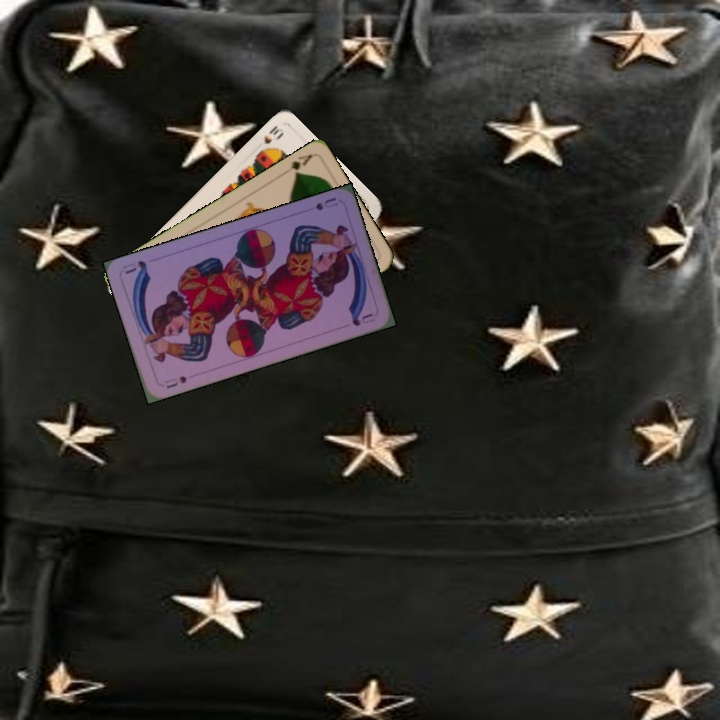GA: (278, 150, 315, 178)
S10: (255, 121, 286, 155)
SU: (311, 193, 340, 213), (160, 372, 189, 391)
